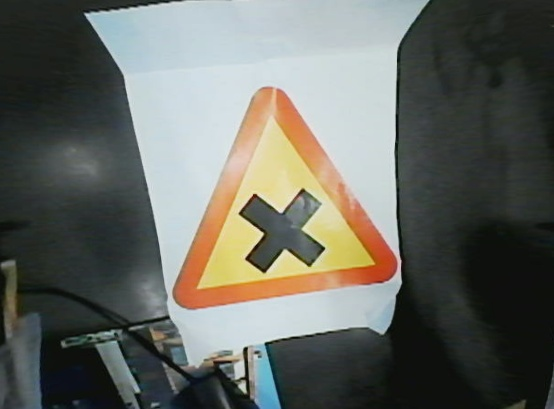junction: (163, 85, 400, 309)
